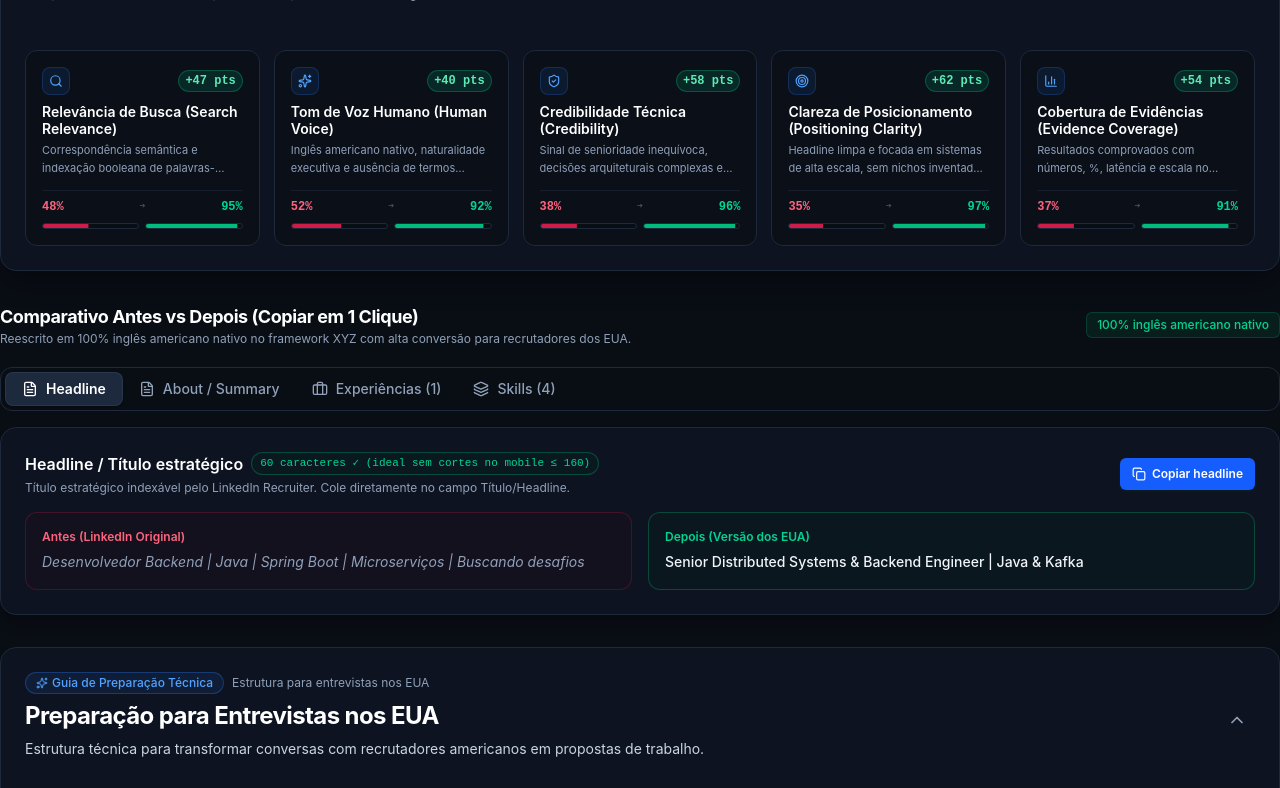
Test: ActionHubView Component › renders original experience description in the Antes column when present
(page scrolled)
Switch to experiences tab
Click the tab "Experiências (1)". click: {"x": 377, "y": 389}
box: [296,373,458,405]
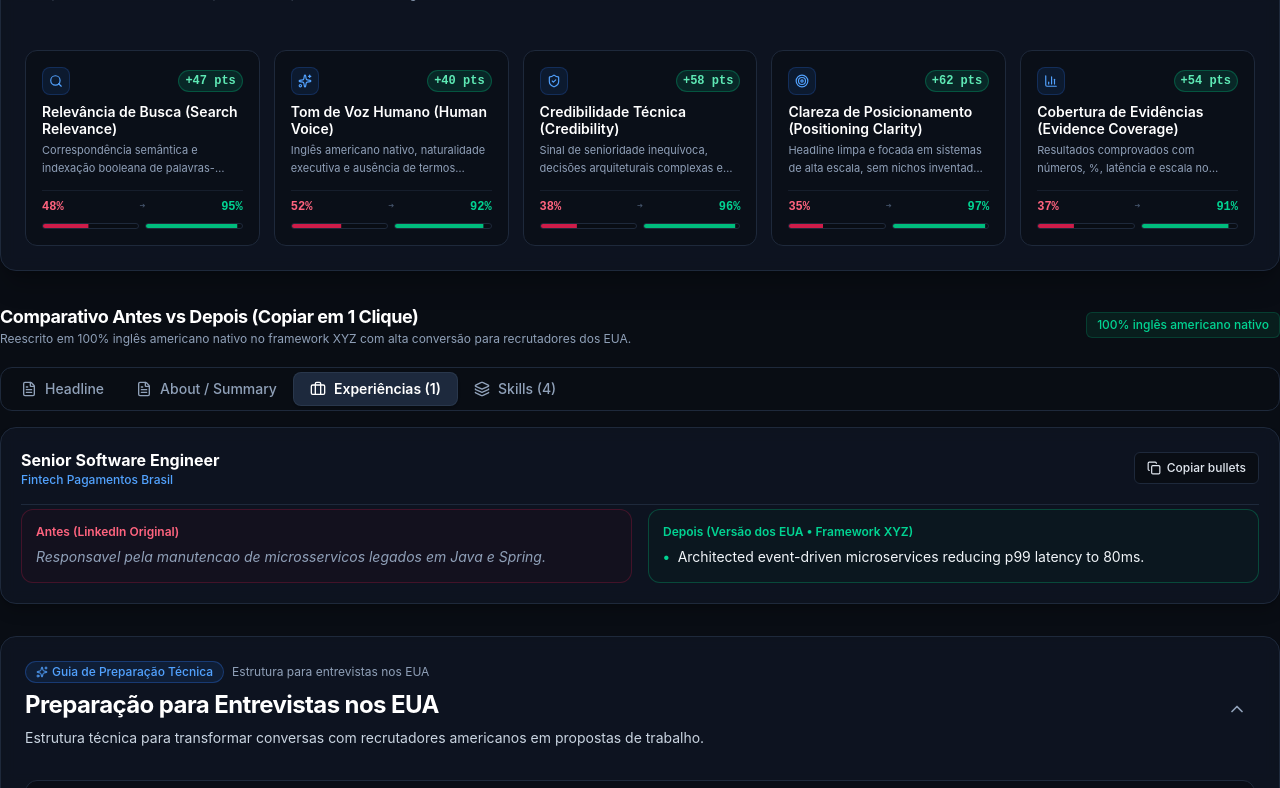
Check: the text "Responsavel pela manutencao de microsservicos legados em Java e Spring." is shown, box [36,546,617,568]
